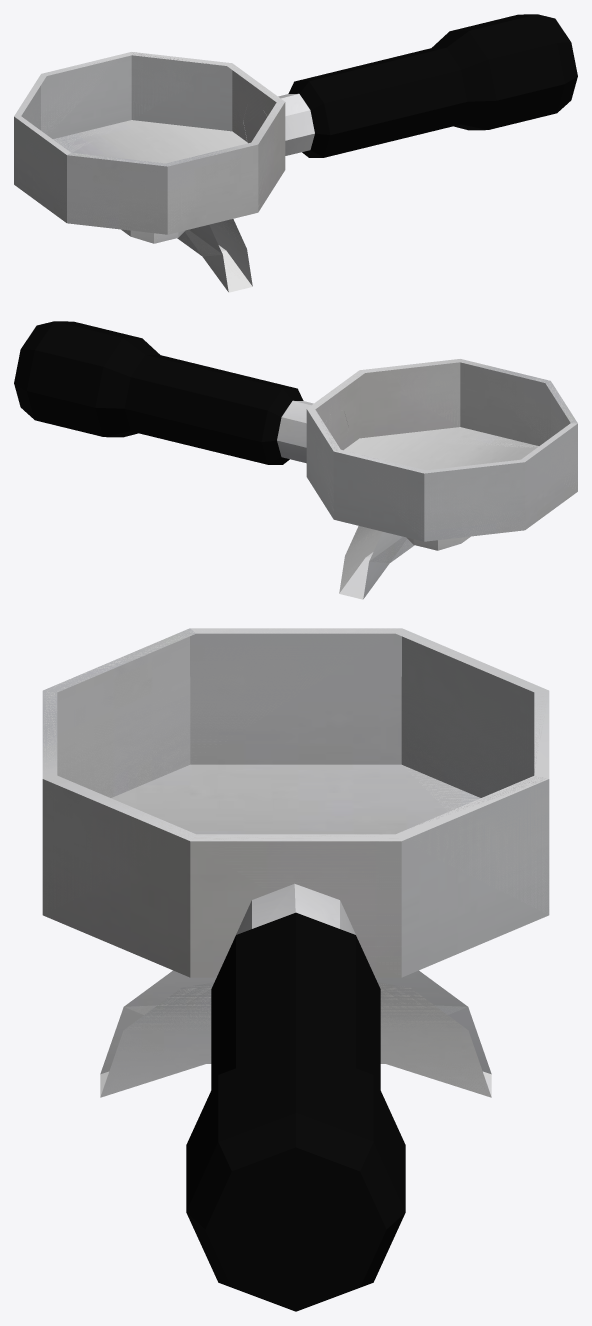
The model's file is portafilter.dae.
3 renders of one model, top to bottom at view 1: azimuth 30°, elevation 25°; view 2: azimuth 150°, elevation 25°; view 3: azimuth 270°, elevation 25°, orthographic. The views are drawn at different scales.
Visible parts, largest first — view 1: filter dalam, pegangan, filter luar, salur dalam, pegangan.001, salur luar, corong dalam; view 2: filter dalam, pegangan, filter luar, salur dalam, pegangan.001, salur luar, corong dalam; view 3: filter dalam, pegangan, filter luar, salur dalam, salur luar, pegangan.001.
Part boxes in pixels (box(x1,y1,x2,y2)): filter dalam: box(14, 52, 285, 234); pegangan: box(288, 14, 577, 157); filter luar: box(15, 52, 284, 233); salur dalam: box(177, 219, 252, 292); pegangan.001: box(243, 93, 314, 155); salur luar: box(178, 219, 250, 284); corong dalam: box(121, 229, 185, 243); filter dalam: box(306, 359, 577, 541); pegangan: box(14, 321, 303, 464); filter luar: box(308, 359, 577, 540); salur dalam: box(339, 526, 414, 599); pegangan.001: box(277, 400, 348, 463); salur luar: box(341, 526, 413, 591); corong dalam: box(406, 536, 470, 550); filter dalam: box(42, 628, 549, 977); pegangan: box(186, 912, 405, 1311); filter luar: box(43, 628, 549, 974); salur dalam: box(100, 970, 491, 1097); salur luar: box(102, 983, 489, 1095); pegangan.001: box(234, 883, 357, 938).
Bounding box in the file's own units: 3.87 × 1.65 × 1.12.
